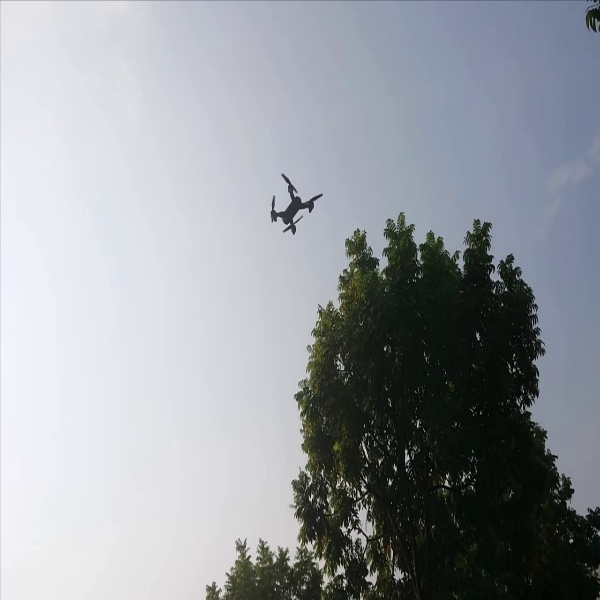drone: (263, 172, 329, 240)
